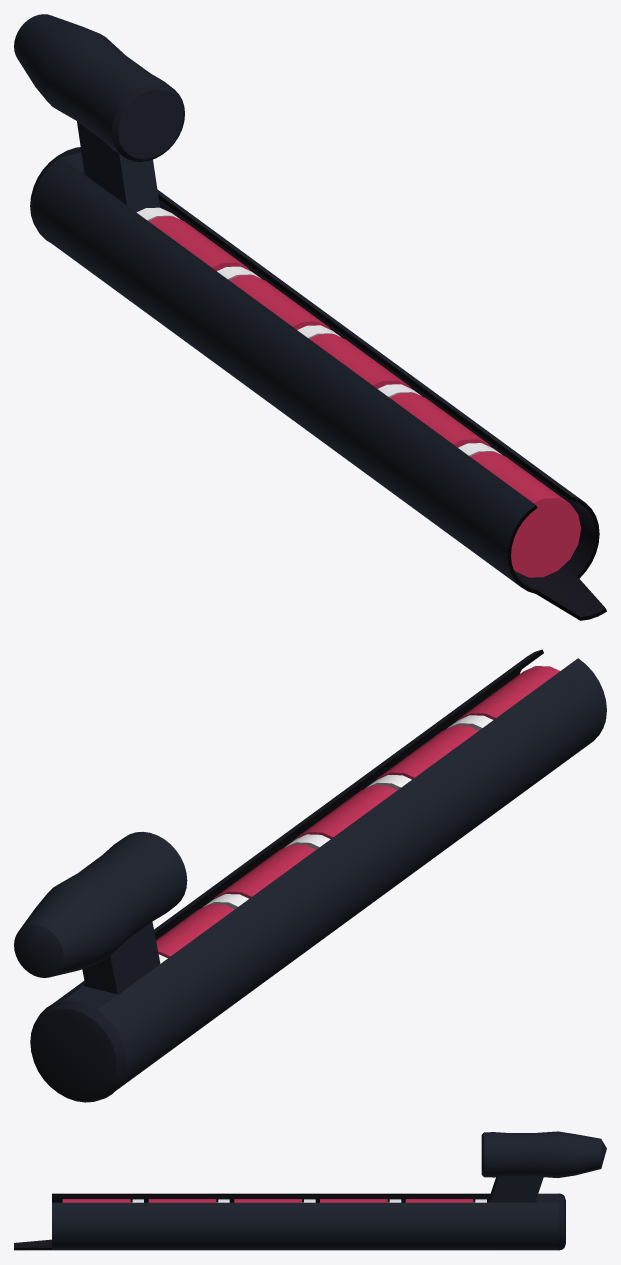
File: SpeedloaderTube.fbx
3 views of the same model, one above another, from view 1: azimuth 30°, elevation 25°; view 2: azimuth 150°, elevation 25°; view 3: azimuth 270°, elevation 25° (orthographic). The views are drawn at different scales.
Visible parts, largest first — view 1: meshSpeedloaderTube, meshShells; view 2: meshSpeedloaderTube, meshShells; view 3: meshSpeedloaderTube, meshShells.
Part boxes in pixels (left/top/right/bottom): meshSpeedloaderTube: left=14, top=14, right=606, bottom=620; meshShells: left=136, top=207, right=580, bottom=577; meshSpeedloaderTube: left=14, top=649, right=606, bottom=1102; meshShells: left=156, top=666, right=559, bottom=963; meshSpeedloaderTube: left=14, top=1131, right=606, bottom=1250; meshShells: left=62, top=1199, right=486, bottom=1202.
Bounding box in the file's own units: 0.3985 × 0.8774 × 4.13.
